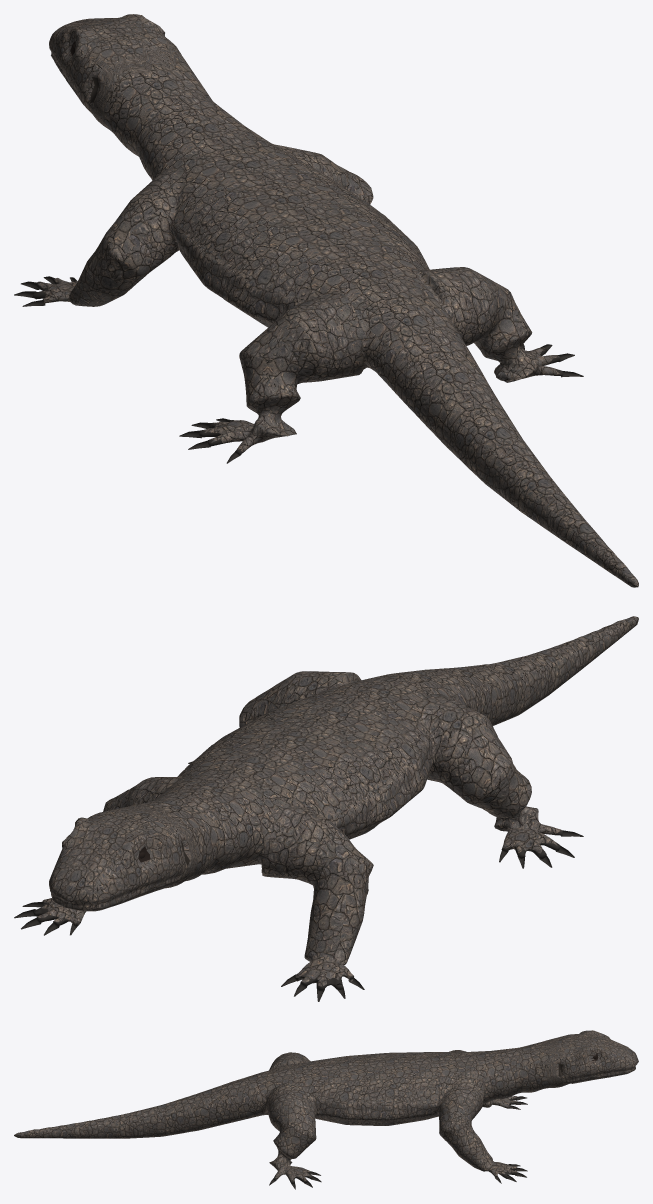
The model's file is komodo.glb.
The picture shows the model from 3 angles, top to bottom: view 1: azimuth 30°, elevation 25°; view 2: azimuth 150°, elevation 25°; view 3: azimuth 270°, elevation 25°; orthographic projection. The views are drawn at different scales.
Parts seen in each view (by area): view 1: Komodo_Dragon; view 2: Komodo_Dragon; view 3: Komodo_Dragon.
Boxes of the visible parts, left/top/right/bottom form: Komodo_Dragon: left=14, top=14, right=638, bottom=587; Komodo_Dragon: left=14, top=616, right=638, bottom=1001; Komodo_Dragon: left=14, top=1030, right=638, bottom=1189.
Size of the model in its own units: 1.22 by 0.5493 by 3.12.
4 materials, 1 textured.
